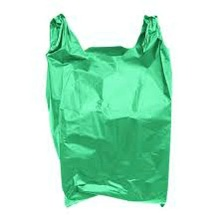plastic_bag: (38, 3, 185, 217)
